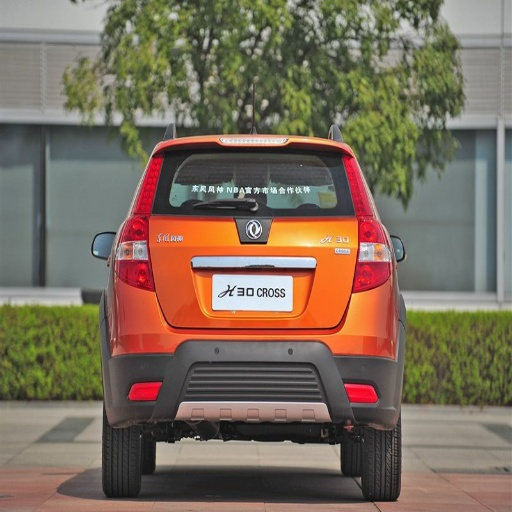back_bumper: (102, 264, 403, 424)
trunk: (119, 216, 359, 331)
